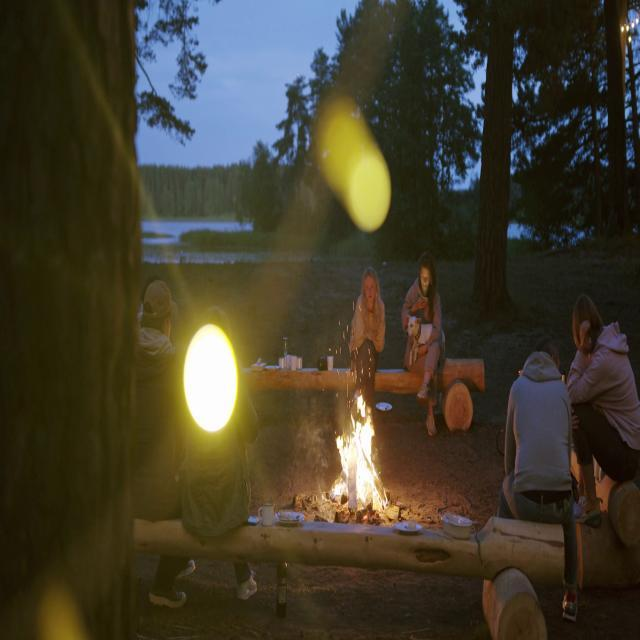Fire: (332, 386, 387, 518)
